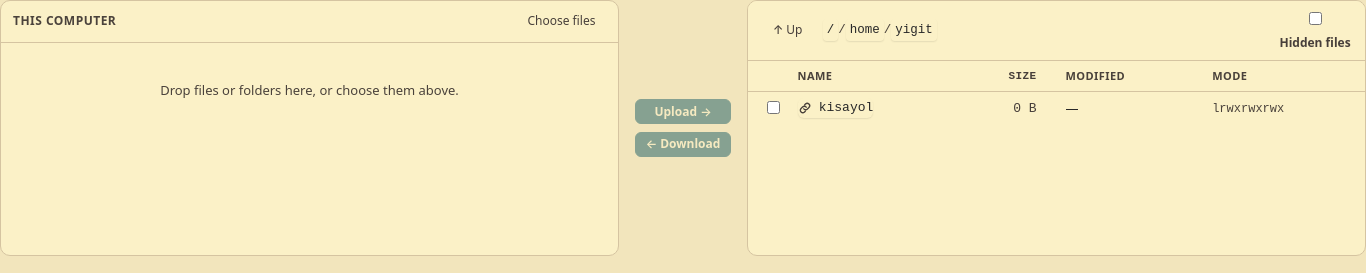
Test: sembolik bağlar › dosyaya işaret eden bağda sebebi anlaşılır yazıyor
What coordinates should you click on to do the following:
click the button "kisayol"
I would click on:
 (835, 108)
Its box is [798,98,873,118].
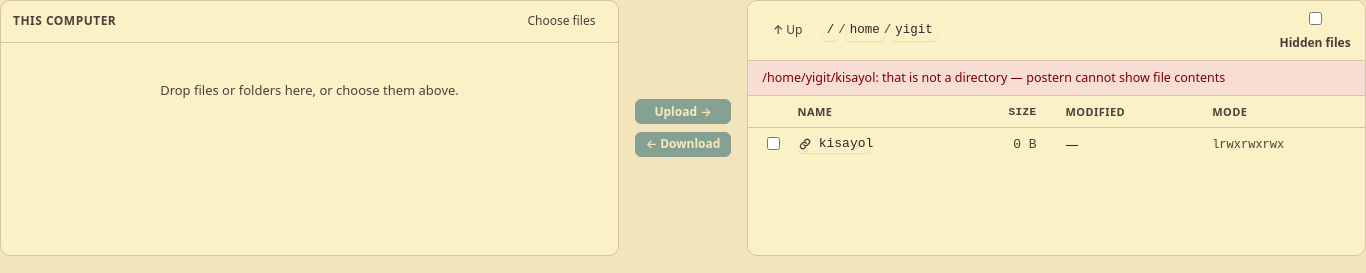
Expected: the message shows "not a directory", [762,69,1225,86]
Expected: the message shows "cannot show file contents", [762,69,1225,86]
